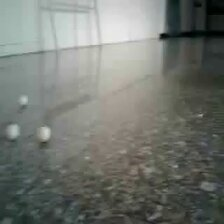tennis: (101, 144, 130, 184), (1, 96, 25, 126), (26, 64, 41, 83)
